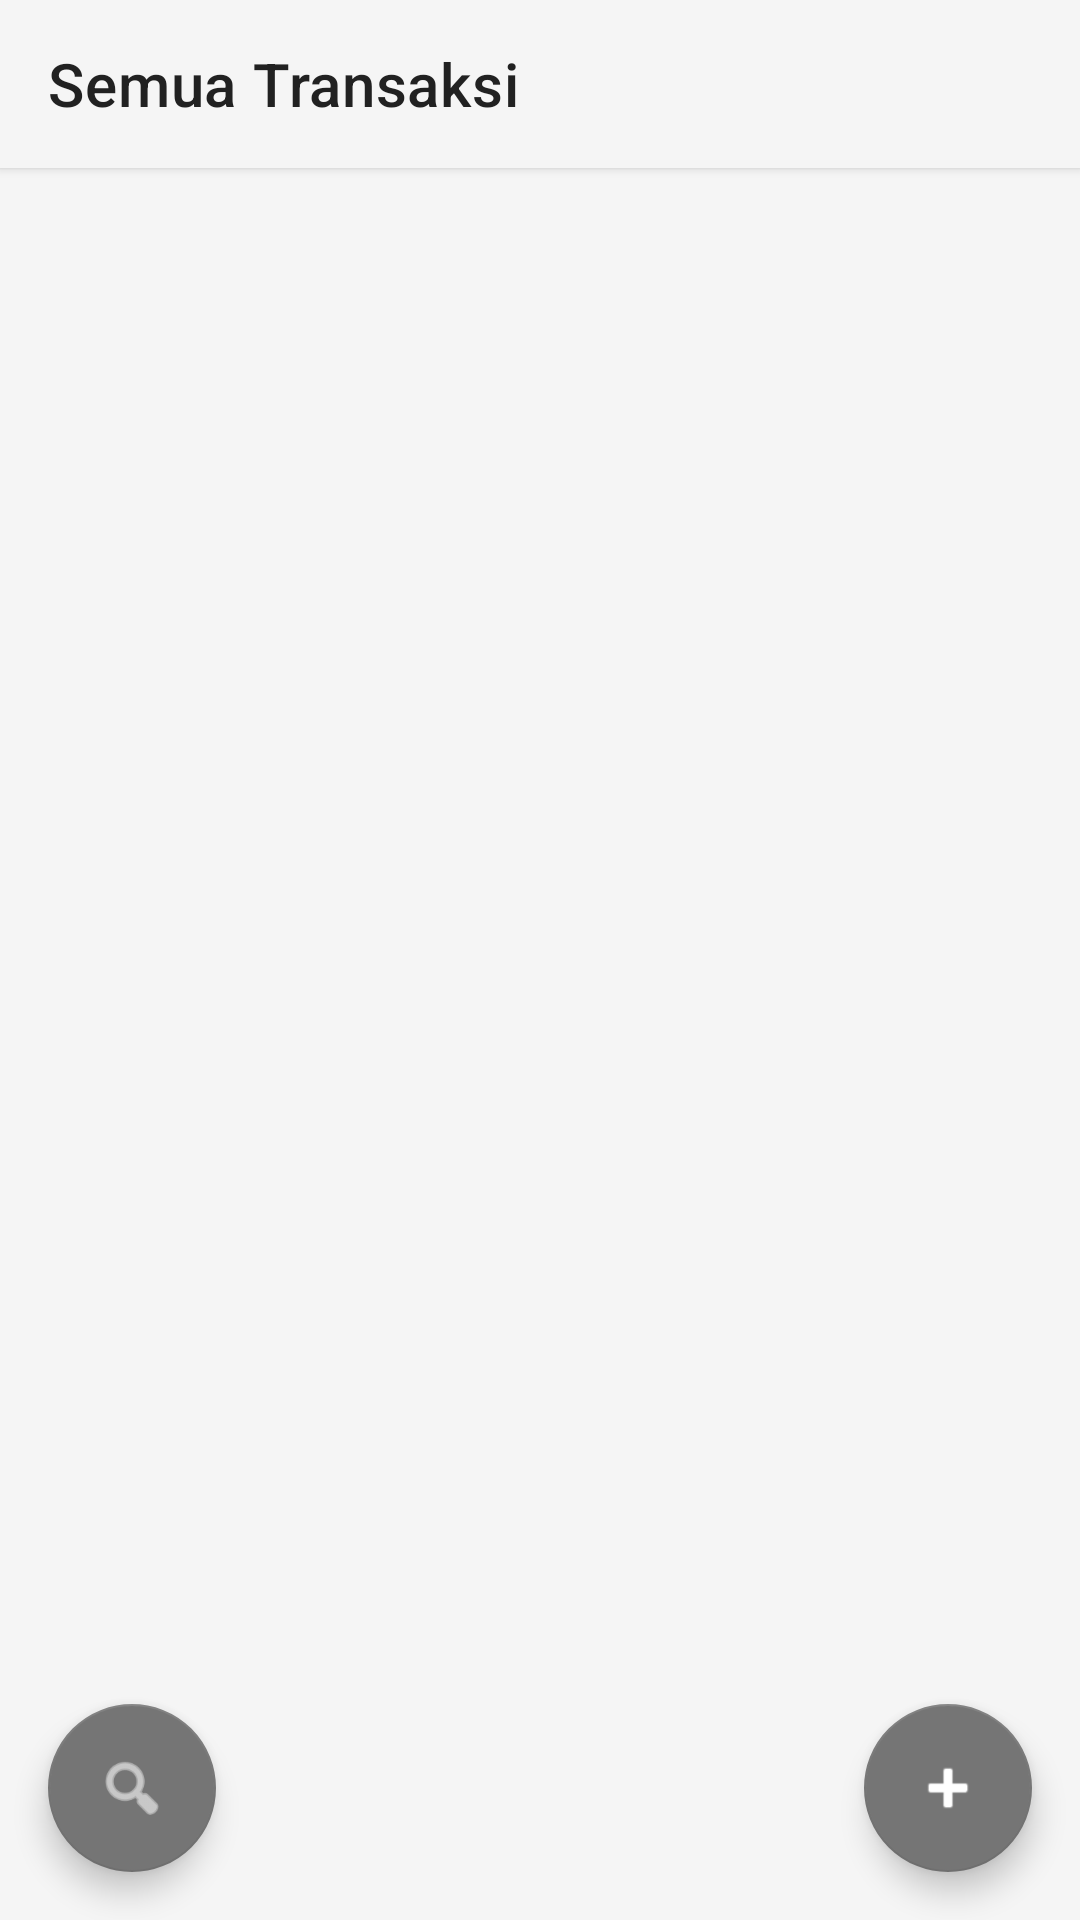

Icon bounding boxes for this 1080px×1920px phone screenshot, format box(x1, y1, x2, y2):
Filter Transaksi: box(48, 1704, 216, 1872)
Tambah Transaksi: box(864, 1704, 1032, 1872)
